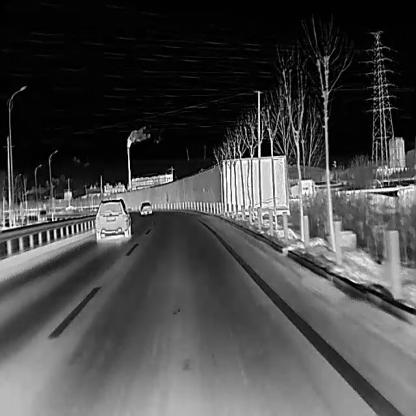car: (94, 196, 130, 240), (138, 200, 152, 214)
truck: (22, 209, 48, 221)
